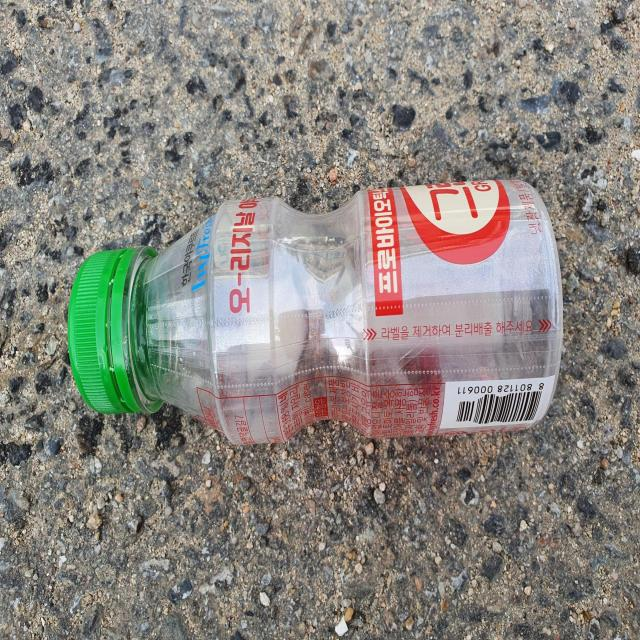plastic: (67, 180, 564, 444)
